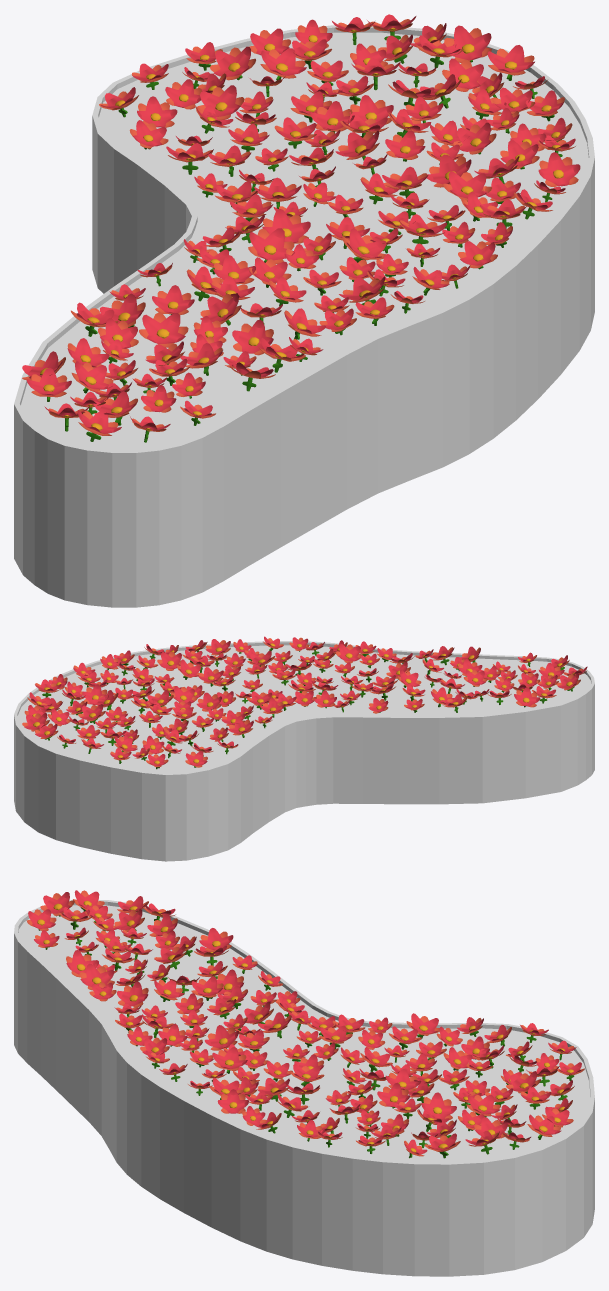
Rendered from FlowerPot2ndArea.fbx.
The picture shows the model from 3 angles, top to bottom: view 1: azimuth 30°, elevation 25°; view 2: azimuth 150°, elevation 25°; view 3: azimuth 270°, elevation 25°; orthographic projection. The views are drawn at different scales.
Parts seen in each view (by area): view 1: FlowerBase2, FlowerGeneration2; view 2: FlowerBase2, FlowerGeneration2; view 3: FlowerBase2, FlowerGeneration2.
Part boxes in pixels (x1=…): FlowerBase2: x1=14, y1=25, x2=594, y2=607; FlowerGeneration2: x1=22, y1=14, x2=580, y2=442; FlowerBase2: x1=14, y1=641, x2=594, y2=861; FlowerGeneration2: x1=22, y1=636, x2=587, y2=769; FlowerBase2: x1=14, y1=900, x2=594, y2=1276; FlowerGeneration2: x1=26, y1=890, x2=584, y2=1158.
Bounding box in the file's own units: 382 × 88.4 × 354.
